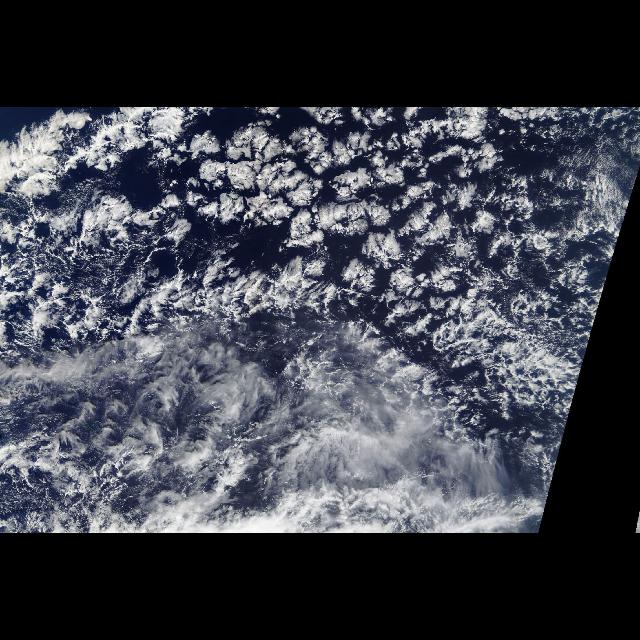Flower: (146, 112, 494, 304)
